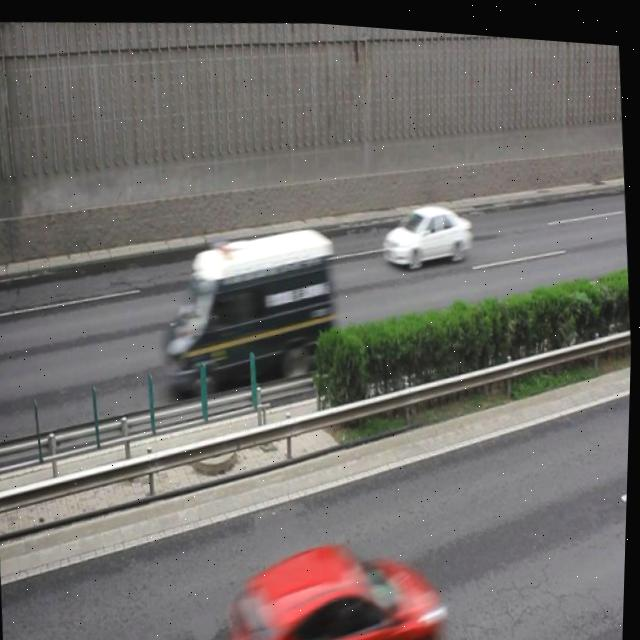car: (231, 525, 444, 640), (379, 194, 475, 268)
truck: (158, 209, 343, 395)
